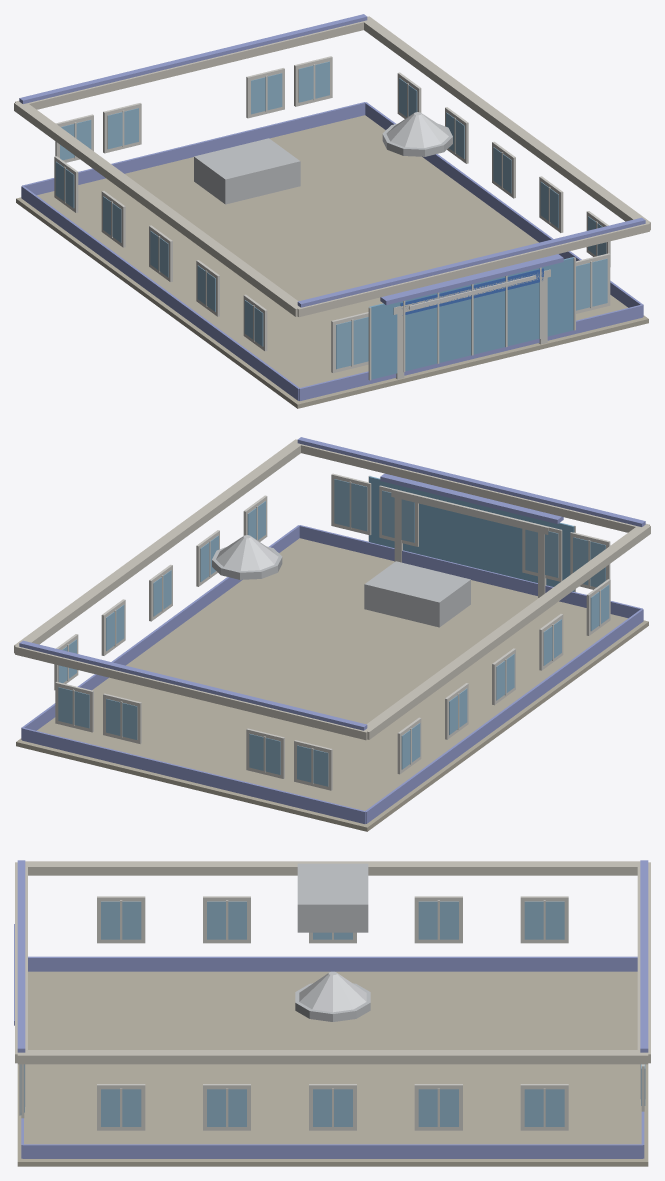
File: facade_lecture_east.glb
3 renders of one model, top to bottom at view 1: azimuth 30°, elevation 25°; view 2: azimuth 150°, elevation 25°; view 3: azimuth 270°, elevation 25°, orthographic. The views are drawn at different scales.
Size of the model in its own units: 10.42 by 3.6 by 14.44.
